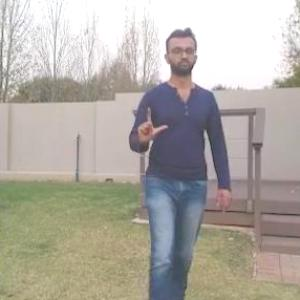land_hand: (133, 102, 171, 145)
